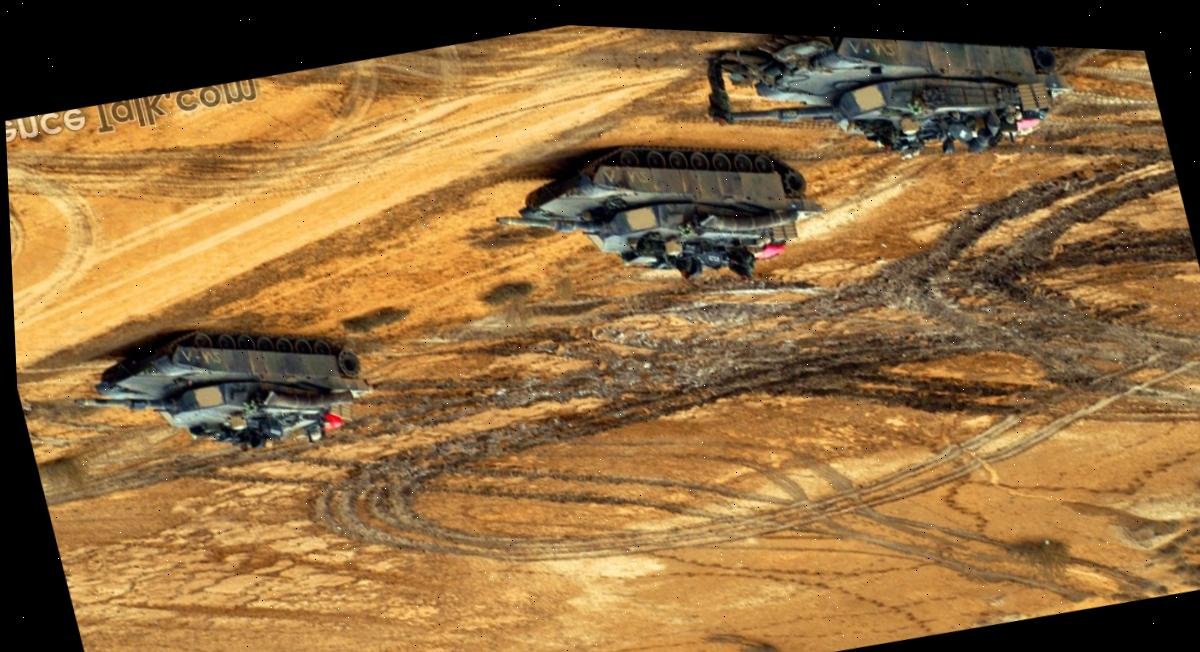tank: (487, 101, 842, 332), (692, 31, 1081, 213), (66, 290, 388, 493)
